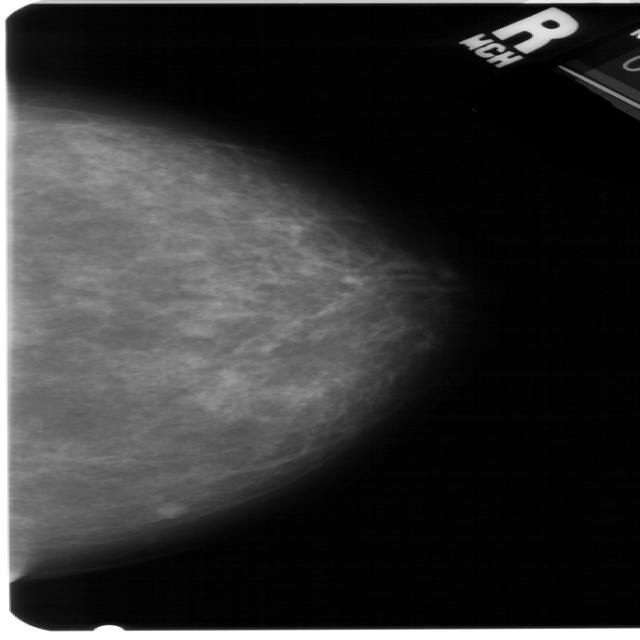tumour: (151, 500, 183, 517)
